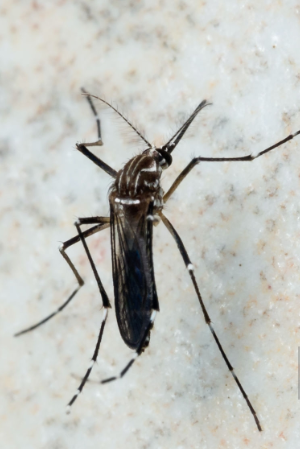dengue_mosquito: (33, 87, 262, 430)
